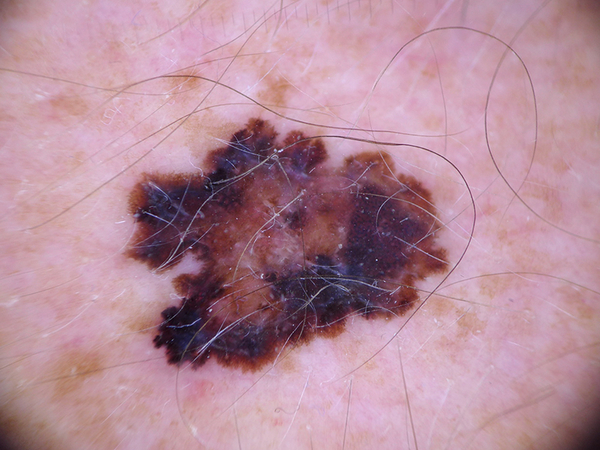Detected Lesion: (120, 115, 456, 373)
